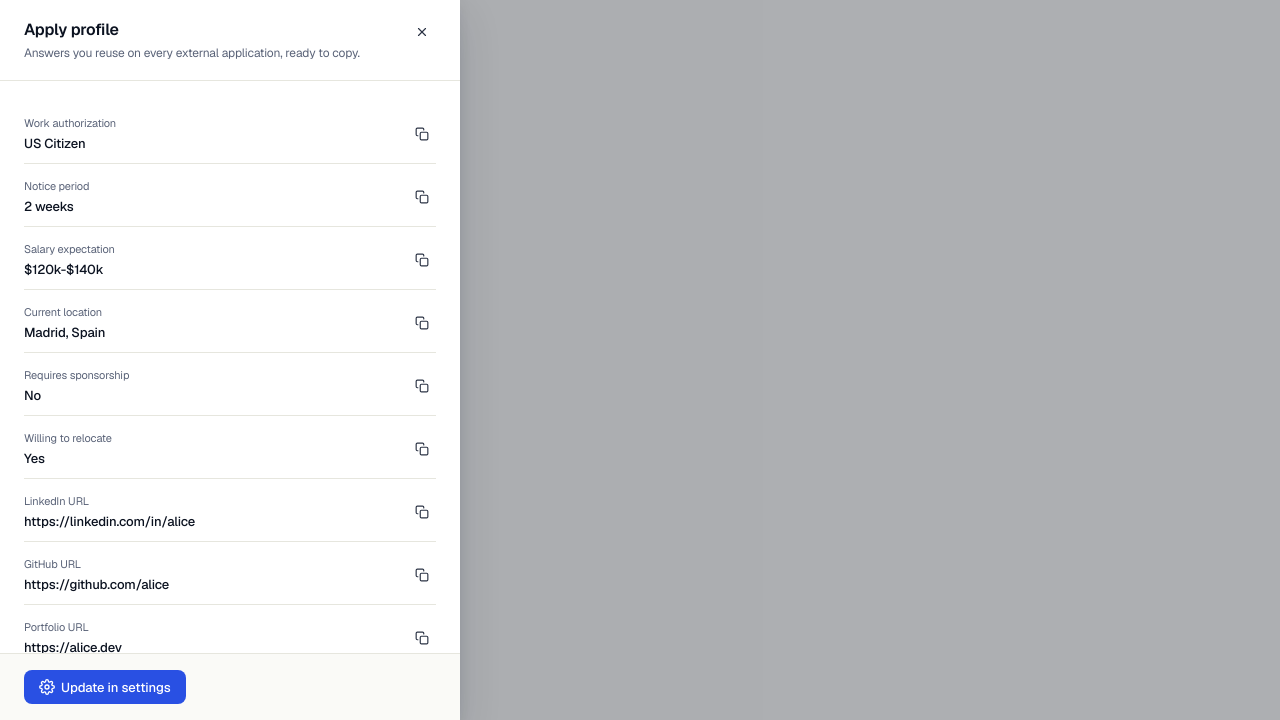
Test: TC-460-8: copy confirmation is per-field, never simultaneous (AC-460-11) › moves the 'Copied' confirmation from field A to field B
Step 1. Click the button with test id "field-copy-workAuthorization" → (422, 134), box [408, 120, 436, 148]
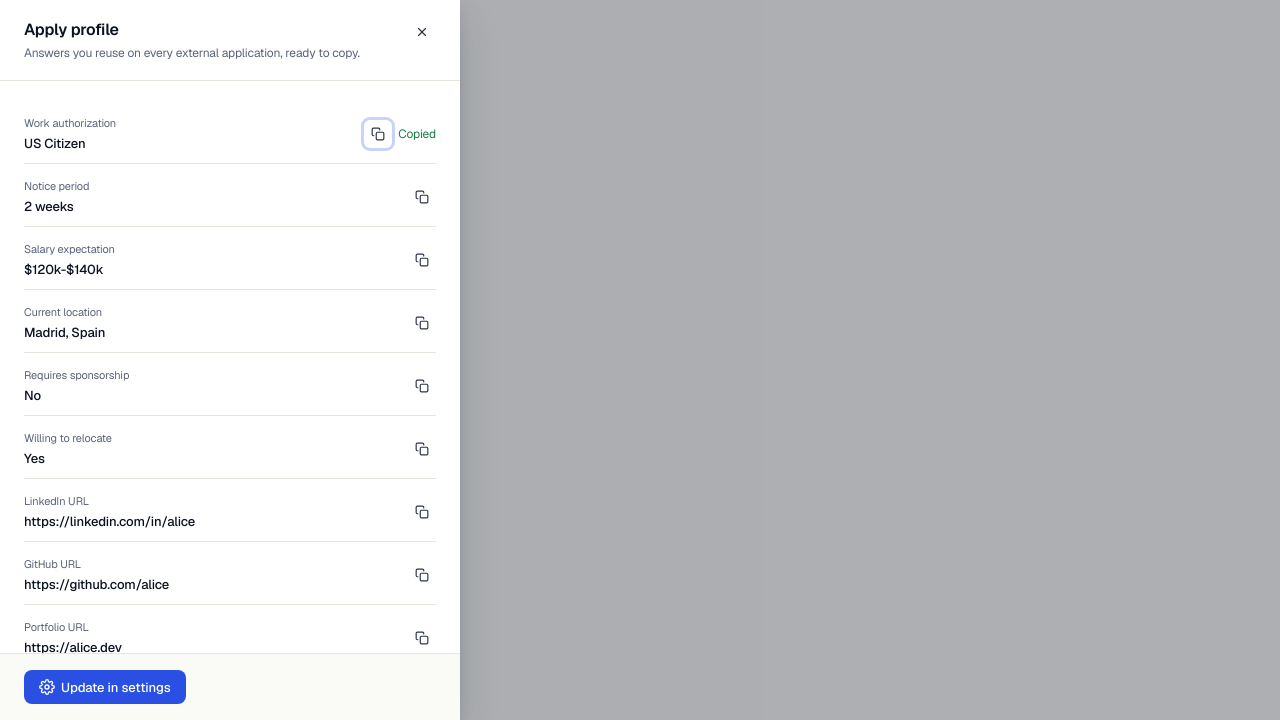
Now the message "Copied" is shown, box [398, 125, 436, 143]
Step 2. Click the button with test id "field-copy-noticePeriod" → (422, 197), box [408, 183, 436, 211]
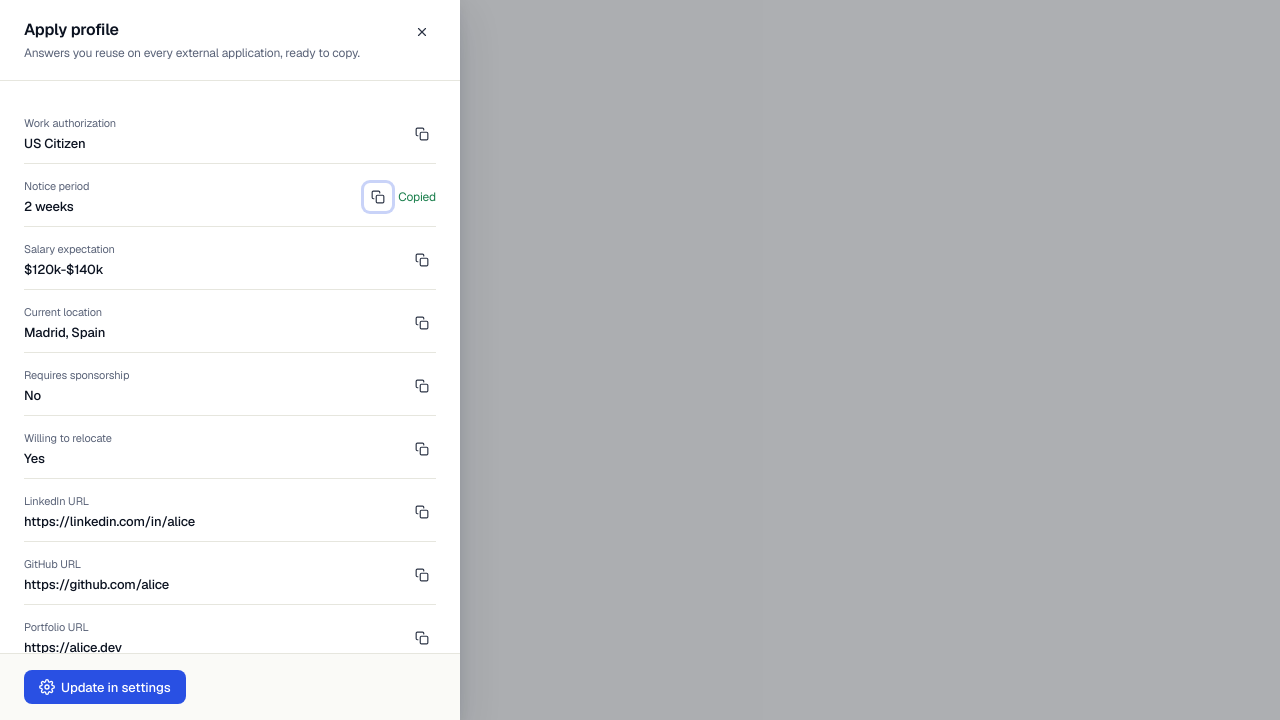
Now the message "Copied" is shown, box [398, 188, 436, 206]
Now the message with test id "field-copied-workAuthorization" is gone
